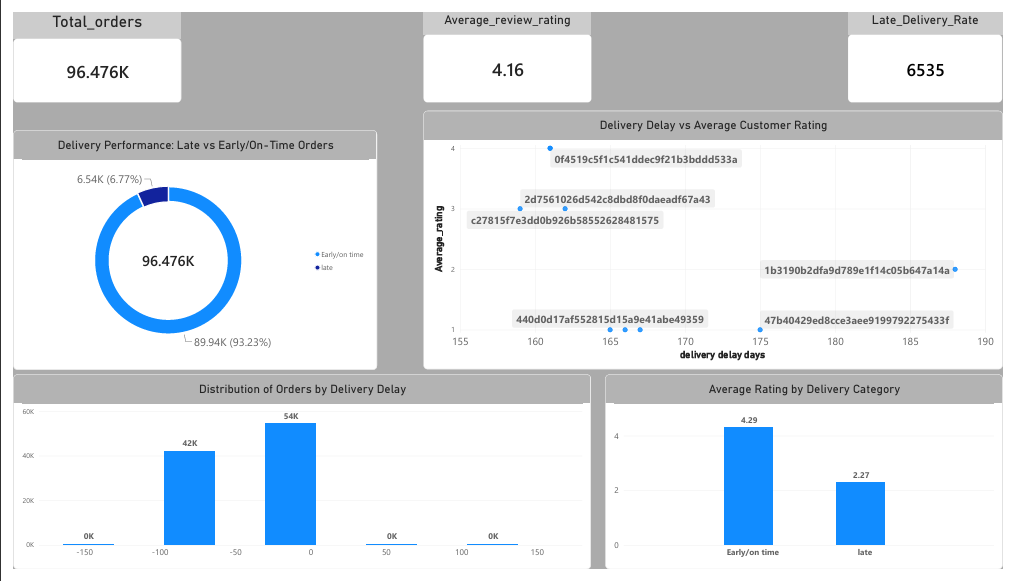

What the dashboard file says about the page in this screenshot:
{"tool":"powerbi","page":{"name":"Page 1","canvas":[1920,1080],"ordinal":0},"visuals":[{"type":"cardVisual","title":"Total_orders","fields":{"Data":["Count(delivery_satisfaction_analysis.order_id)"]},"box":[0,0,307.4,178.9],"z":0},{"type":"cardVisual","title":"Average_review_rating","fields":{"Data":["Avg(delivery_satisfaction_analysis.average_rating)"]},"box":[823.9,47.9,325,143.6],"z":1000},{"type":"cardVisual","title":"Late_Delivery_Rate","fields":{"Data":["delivery_satisfaction_analysis.Late_Delivery_Rate"]},"box":[1647.9,0,272.1,178.9],"z":2000},{"type":"donutChart","title":"Delivery Performance: Late vs Early/On-Time Orders","fields":{"Category":["delivery_satisfaction_analysis.delivery_category"],"Y":["CountNonNull(delivery_satisfaction_analysis.order_id)"]},"box":[0,229.2,706.1,464.5],"z":3000},{"type":"clusteredColumnChart","title":"Average Rating by Delivery Category","fields":{"Category":["delivery_satisfaction_analysis.delivery_category"],"Y":["Avg(delivery_satisfaction_analysis.average_rating)"]},"box":[1149,703,771,378],"z":3001},{"type":"columnChart","title":"Distribution of Orders by Delivery Delay","fields":{"Category":["delivery_satisfaction_analysis.delivery_delay_days (bins)"],"Y":["CountNonNull(delivery_satisfaction_analysis.delivery_delay_days)"]},"box":[0,703,1121.3,378],"z":3002},{"type":"scatterChart","title":"Delivery Delay vs Average Customer Rating","fields":{"Category":["delivery_satisfaction_analysis.order_id"],"X":["Sum(delivery_satisfaction_analysis.delivery_delay_days)"],"Y":["Sum(delivery_satisfaction_analysis.average_rating)"]},"box":[796.2,191.5,1123.8,501.4],"z":3003},{"type":"textbox","box":[325,0,1322.8,88.2],"z":3004}]}

Visuals, with their boxes in screenshot pixels (x1, y1, x2, y2), scaled from the page's 1920x1080 canvas onto the 1014x581 screenshot:
"Total_orders" cardVisual: <bbox>0, 0, 162, 96</bbox>
"Average_review_rating" cardVisual: <bbox>435, 26, 607, 103</bbox>
"Late_Delivery_Rate" cardVisual: <bbox>870, 0, 1013, 96</bbox>
"Delivery Performance: Late vs Early/On-Time Orders" donutChart: <bbox>0, 123, 373, 373</bbox>
"Average Rating by Delivery Category" clusteredColumnChart: <bbox>607, 378, 1013, 580</bbox>
"Distribution of Orders by Delivery Delay" columnChart: <bbox>0, 378, 592, 580</bbox>
"Delivery Delay vs Average Customer Rating" scatterChart: <bbox>420, 103, 1013, 373</bbox>
textbox: <bbox>172, 0, 870, 47</bbox>
